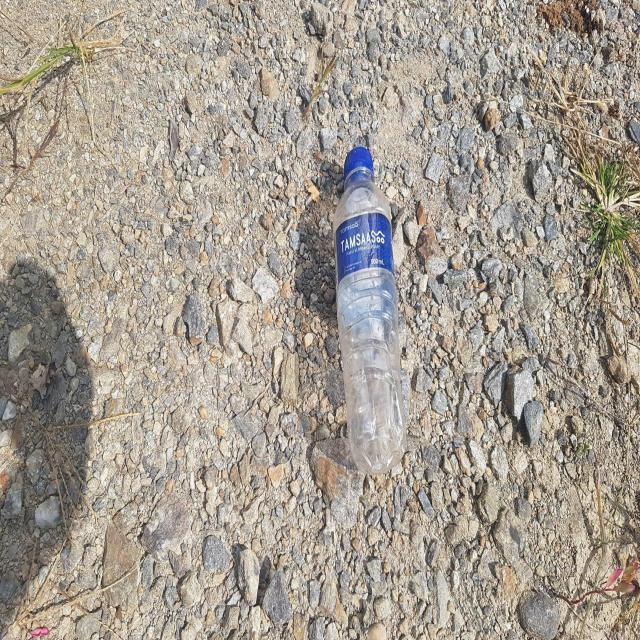plastic: (333, 147, 406, 474)
